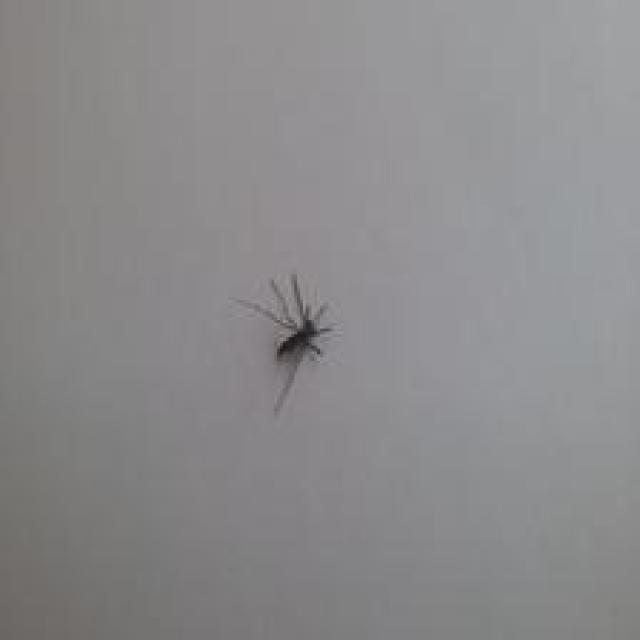Aedes albopictus: (232, 272, 337, 414)
